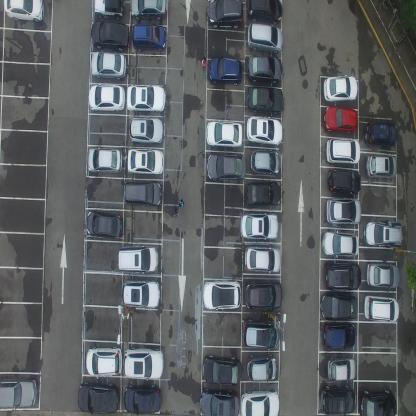car: (76, 380, 119, 414), (123, 347, 164, 380), (201, 354, 242, 386), (117, 244, 159, 275), (0, 376, 38, 410), (243, 317, 281, 351), (86, 344, 122, 378), (203, 278, 241, 310), (90, 21, 129, 52), (123, 178, 163, 208), (247, 21, 283, 54), (124, 383, 161, 415), (121, 278, 160, 308), (244, 279, 283, 309), (206, 153, 246, 182), (126, 83, 166, 112), (323, 103, 358, 136), (85, 209, 123, 239), (240, 212, 278, 242), (246, 115, 283, 145), (324, 260, 361, 290), (319, 385, 356, 415), (199, 388, 240, 415), (205, 119, 243, 148), (244, 84, 282, 113), (244, 245, 282, 274), (364, 219, 402, 248), (240, 388, 280, 415), (90, 51, 127, 80), (3, 0, 44, 26), (88, 84, 126, 112), (126, 148, 164, 176), (208, 55, 242, 86), (207, 0, 242, 30), (246, 52, 282, 81), (128, 116, 164, 145), (364, 293, 400, 322), (325, 137, 361, 166), (325, 197, 362, 225), (359, 388, 397, 415), (320, 292, 358, 319), (132, 23, 166, 53), (323, 74, 358, 103), (364, 118, 396, 149), (327, 167, 361, 196), (322, 322, 356, 351), (87, 146, 122, 174), (322, 231, 359, 257), (245, 180, 281, 206), (246, 352, 277, 382), (366, 261, 400, 288), (246, 0, 282, 25), (365, 153, 397, 180), (250, 147, 280, 175), (130, 0, 167, 22), (326, 355, 356, 382), (94, 0, 124, 19)
